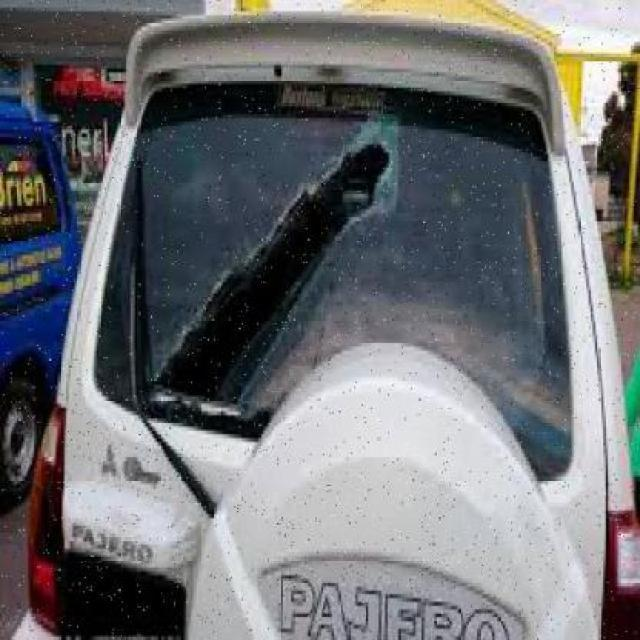Rear-windscreen-Damage: (109, 80, 573, 492)
